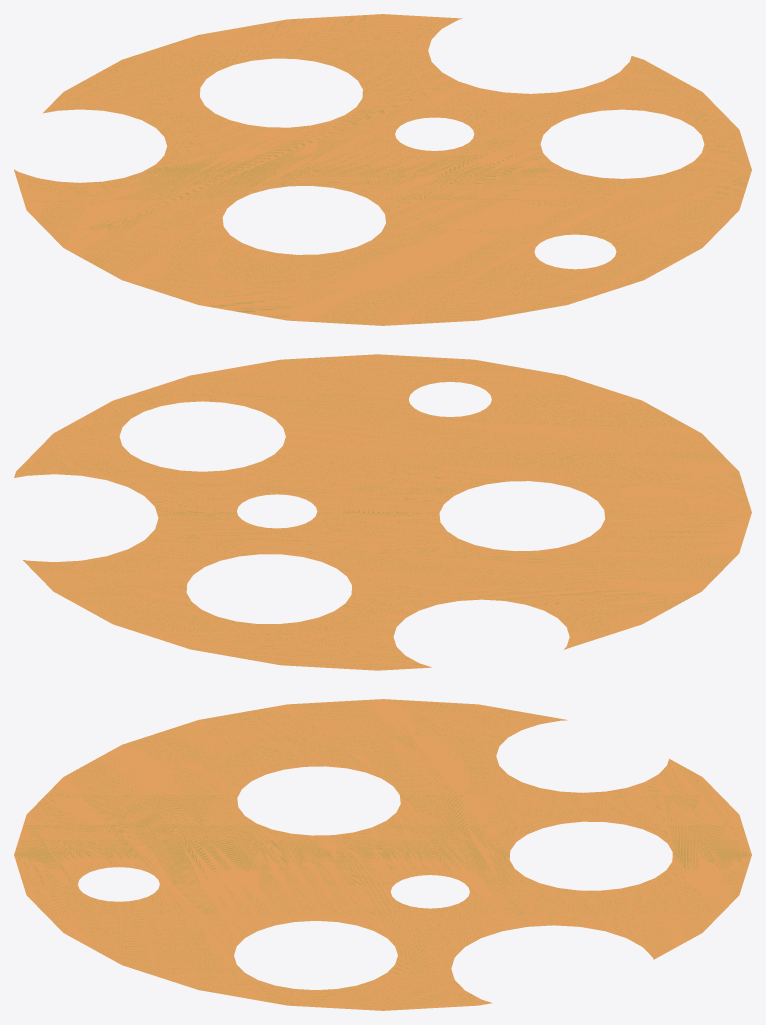
The model's file is original-53.obj.
3 renders of one model, top to bottom at view 1: azimuth 30°, elevation 25°; view 2: azimuth 150°, elevation 25°; view 3: azimuth 270°, elevation 25°, orthographic.
Visible parts, largest first — view 1: #ID305; view 2: #ID305; view 3: #ID305.
Part boxes in pixels (x1=…): #ID305: x1=14, y1=14, x2=751, y2=325; #ID305: x1=14, y1=354, x2=751, y2=670; #ID305: x1=14, y1=699, x2=751, y2=1010.
Bounding box in the file's own units: 0.1642 × 0 × 0.1642.
